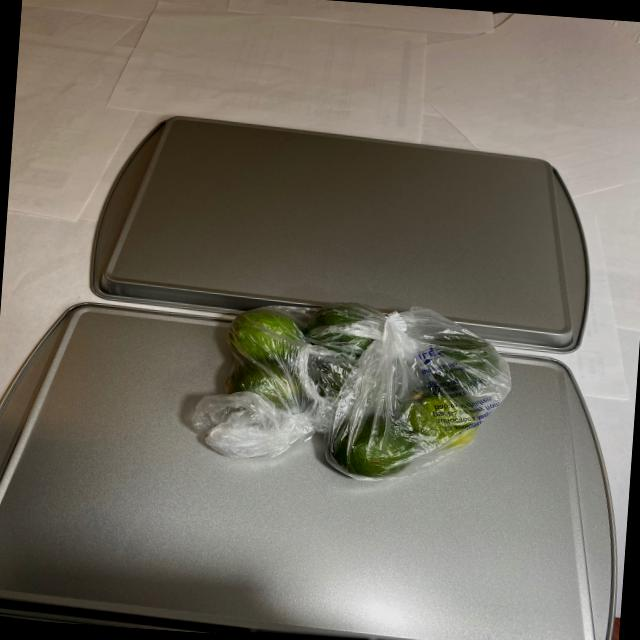lemon: (207, 296, 501, 479)
